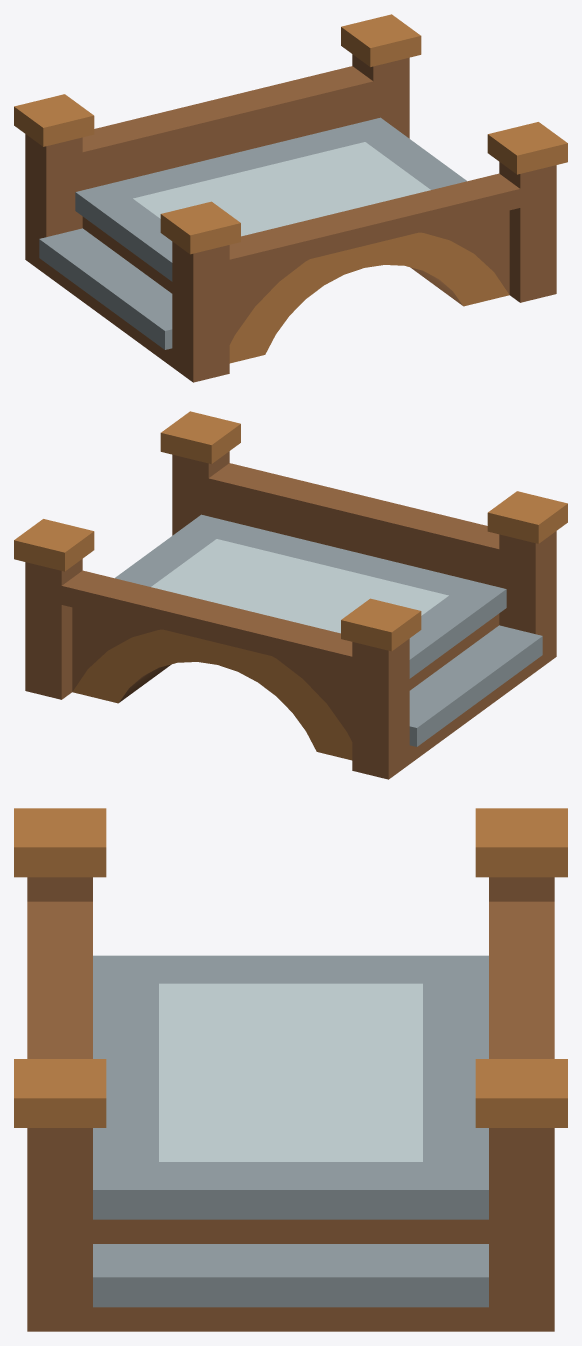
Rendered from bridge_woodRoundNarrow.glb.
The picture shows the model from 3 angles, top to bottom: view 1: azimuth 30°, elevation 25°; view 2: azimuth 150°, elevation 25°; view 3: azimuth 270°, elevation 25°; orthographic projection. The views are drawn at different scales.
Parts seen in each view (by area): view 1: bridge_woodRoundNarrow; view 2: bridge_woodRoundNarrow; view 3: bridge_woodRoundNarrow.
Part boxes in pixels (left/top/right/bottom): bridge_woodRoundNarrow: left=14, top=14, right=567, bottom=382; bridge_woodRoundNarrow: left=14, top=411, right=567, bottom=779; bridge_woodRoundNarrow: left=14, top=808, right=567, bottom=1331.
Size of the model in its own units: 1.04 by 0.4 by 0.84.
